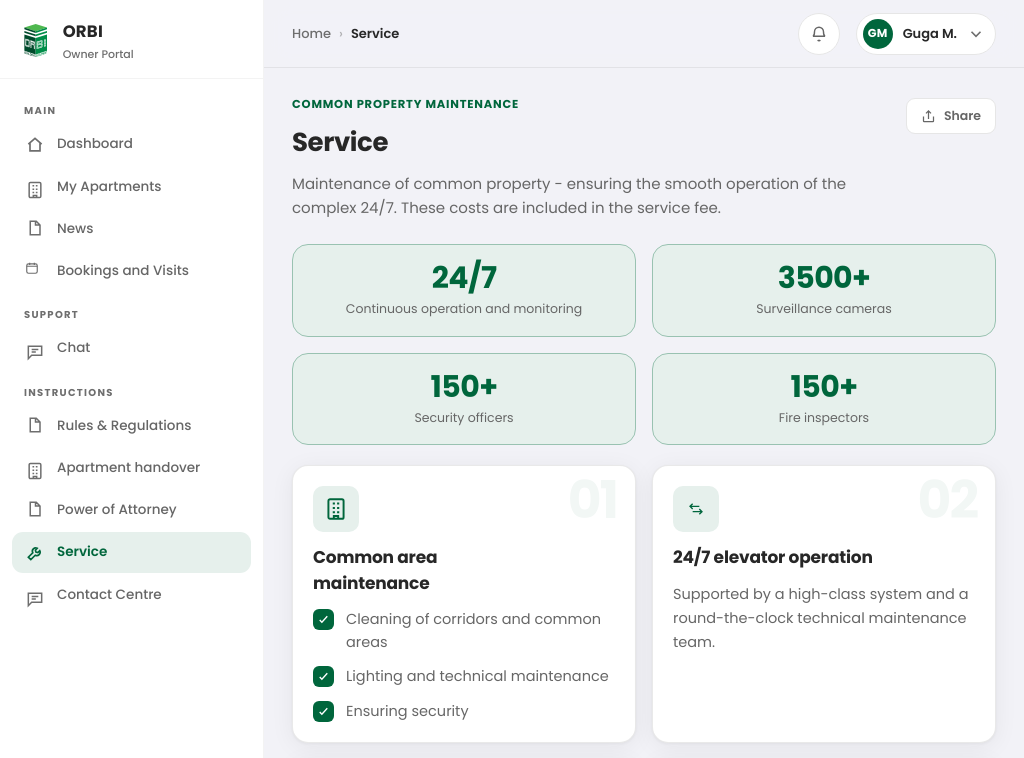
Test: the guide share button › shares the public link, not the portal URL
Click the button with aria-label "share link" at (951, 116), box [906,98,996,134]
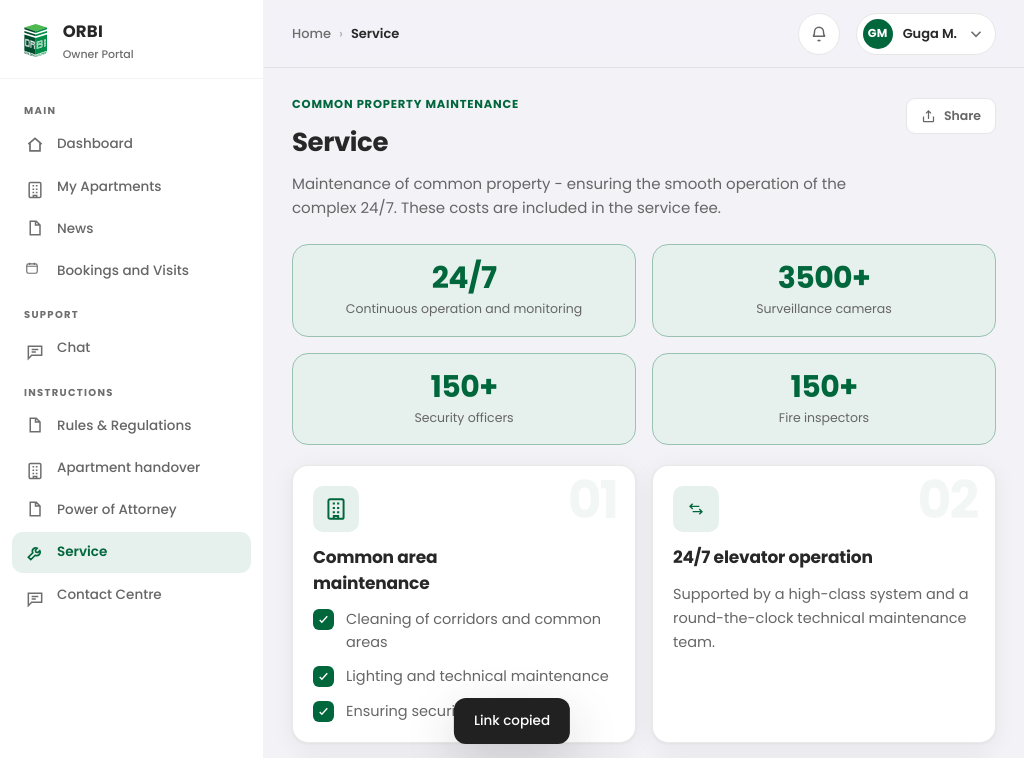
Now the text "Link copied" is shown, box [454,698,570,744]
